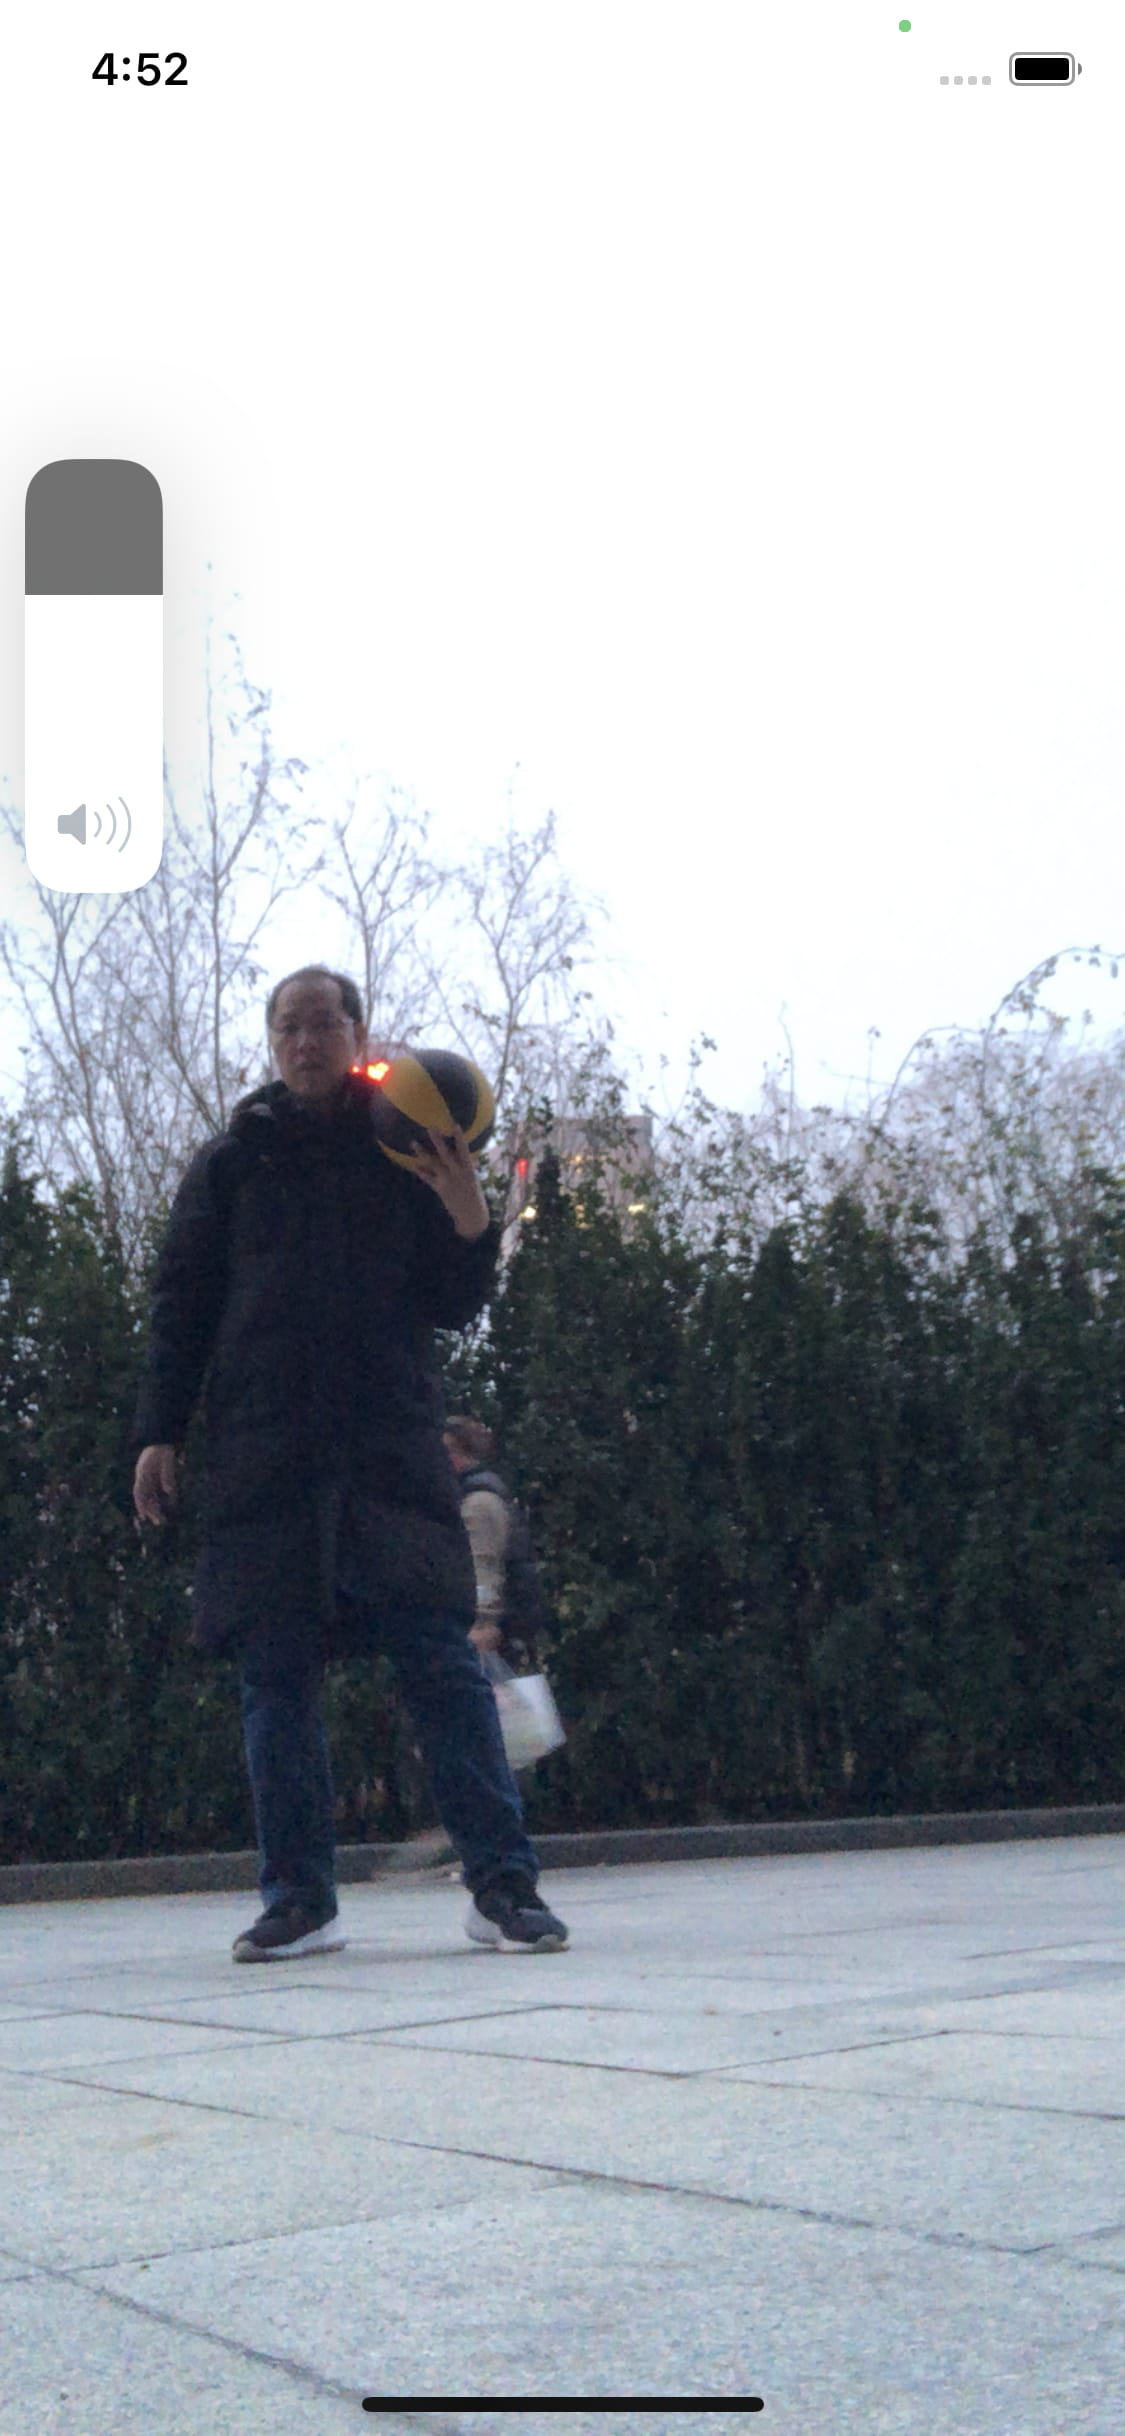ball: (371, 1046, 500, 1174)
